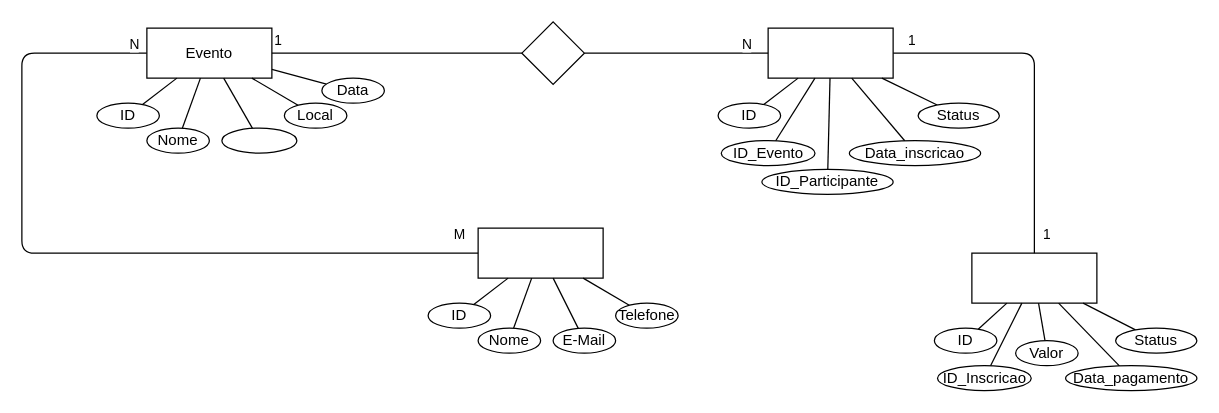
This 1219x413 diagram has some shape labels left out. The box of each missing label's shape, as (x1, y1, x2, y2) in pixels:
Contém: (521, 21, 584, 84)
Descrição: (221, 127, 297, 153)
Inscricao: (767, 27, 893, 78)
Pagamento: (971, 252, 1097, 303)
Participante: (477, 227, 603, 278)
